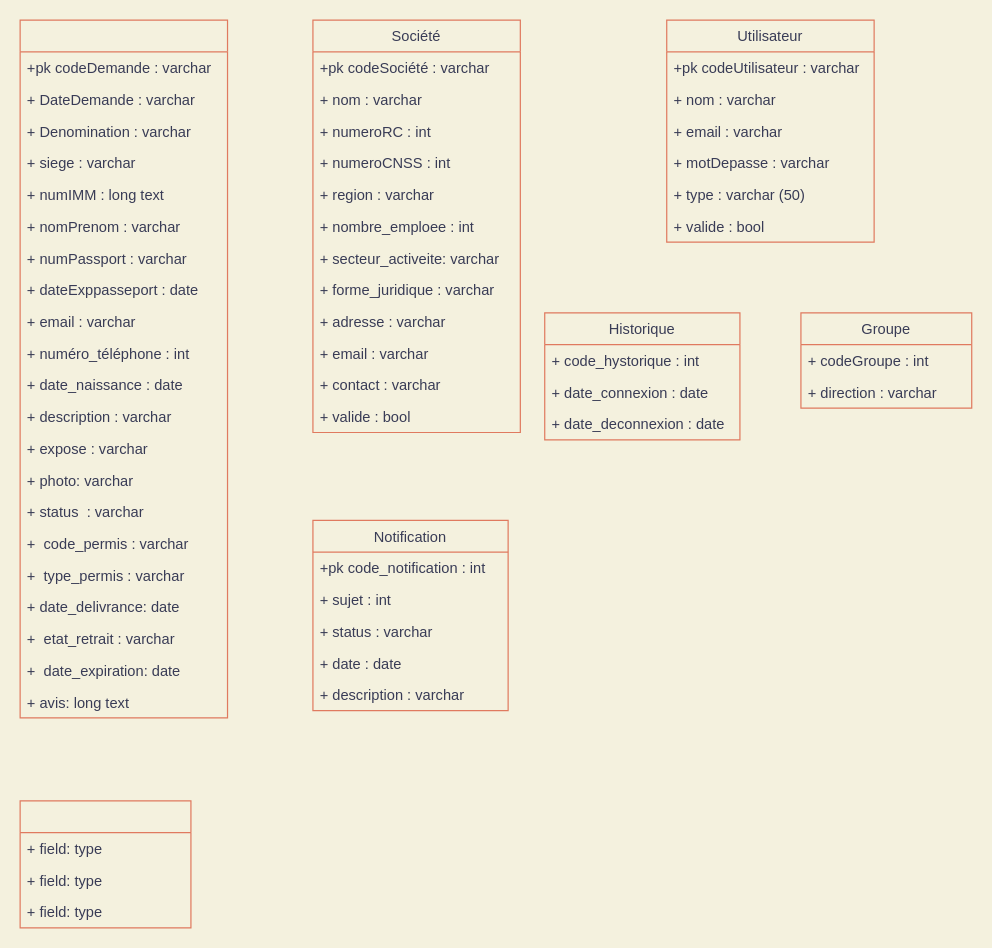
Some shapes in this 992 by 948 pixel diagram are drawn without their labels. The box of each missing label's shape, as (x1, y1, x2, y2) in pixels:
Demande permis: (19, 19, 228, 718)
Travailleur: (19, 800, 191, 928)
